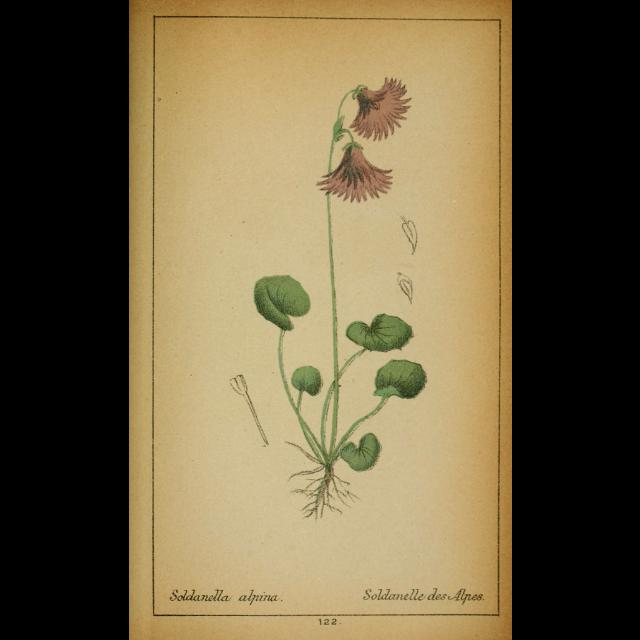Flower: (315, 139, 393, 203)
